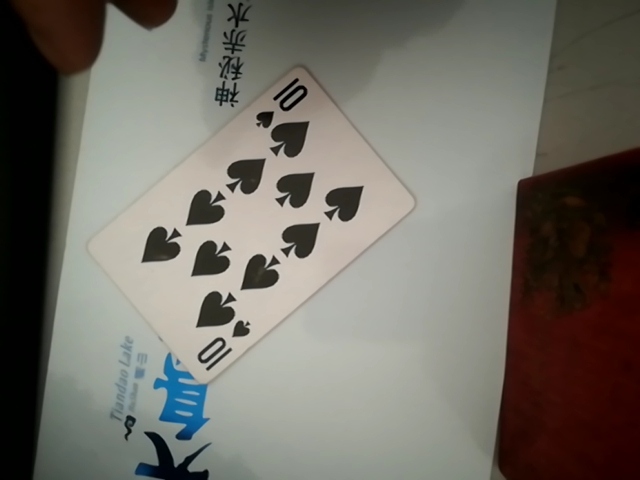ht 10: (105, 77, 412, 376)
